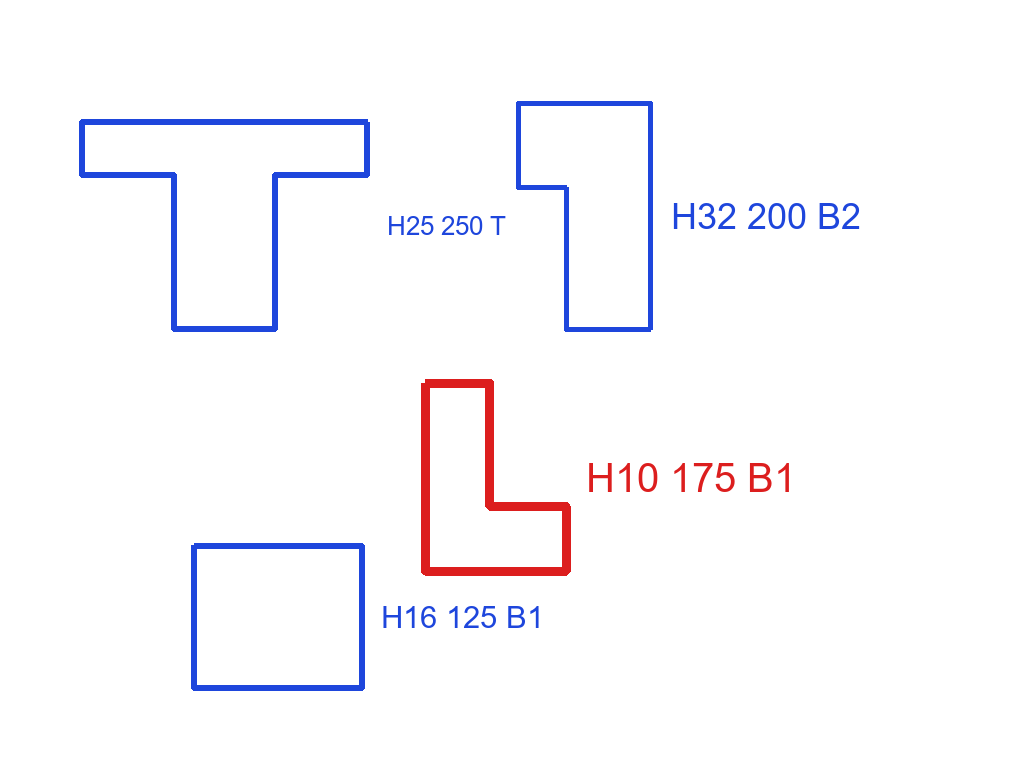shape: (77, 118, 372, 334), (514, 99, 655, 334), (419, 377, 573, 578), (189, 541, 366, 693)
text: (584, 461, 798, 494), (669, 201, 863, 231), (379, 604, 546, 630), (385, 214, 508, 237)
